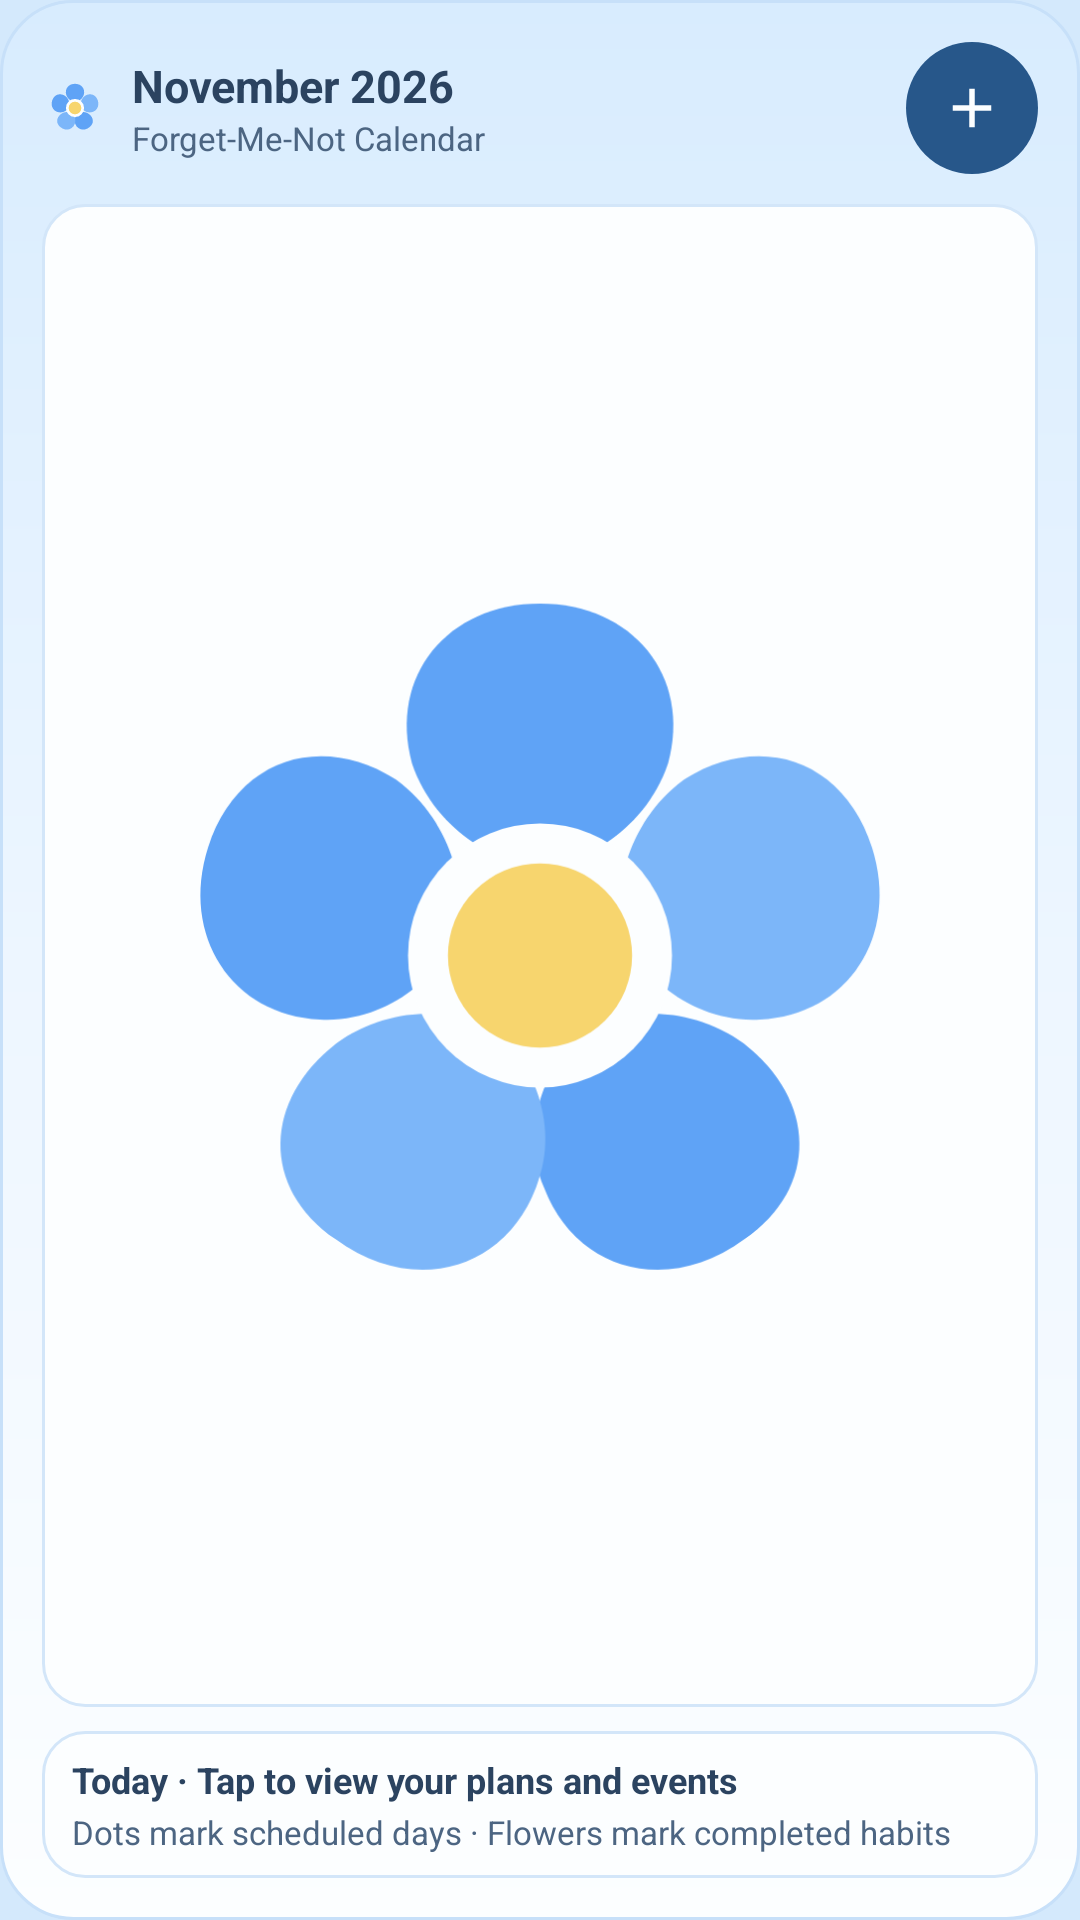

Where icons sit on this 1080 x 1920 app screen, as (left=x1, top=y1, right=x2, bottom=y2):
Add event or plan: (left=906, top=42, right=1038, bottom=174)
